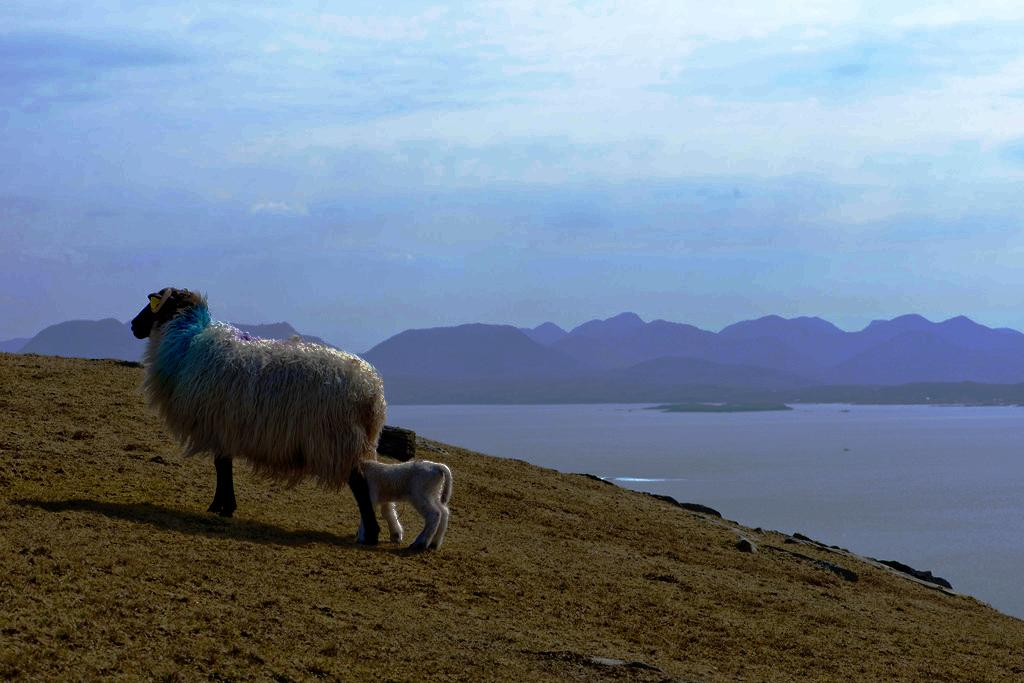Sheep: (129, 284, 384, 540), (366, 462, 451, 554)
